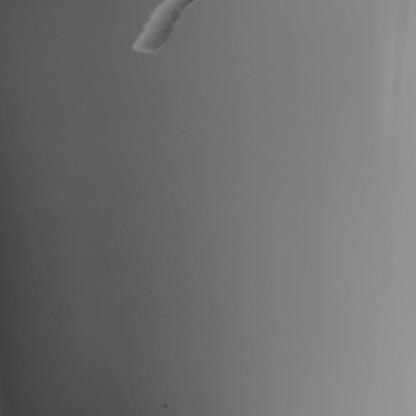sunshang: (130, 1, 200, 55)
